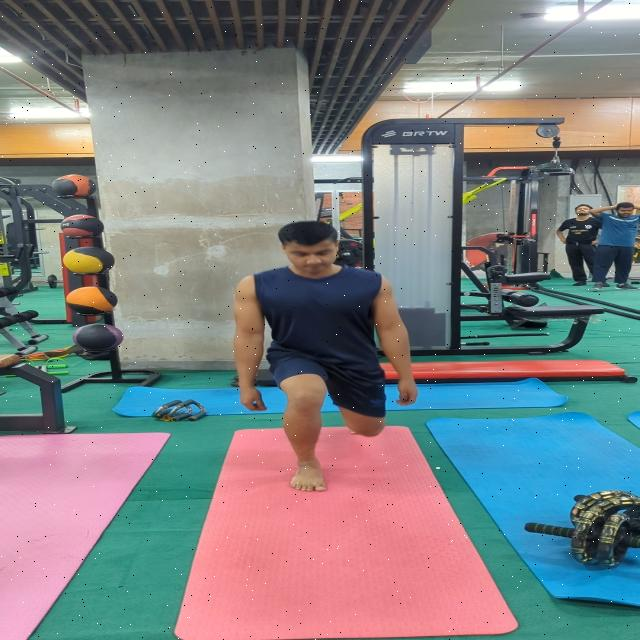Normal_Lunges: (214, 214, 422, 495)
